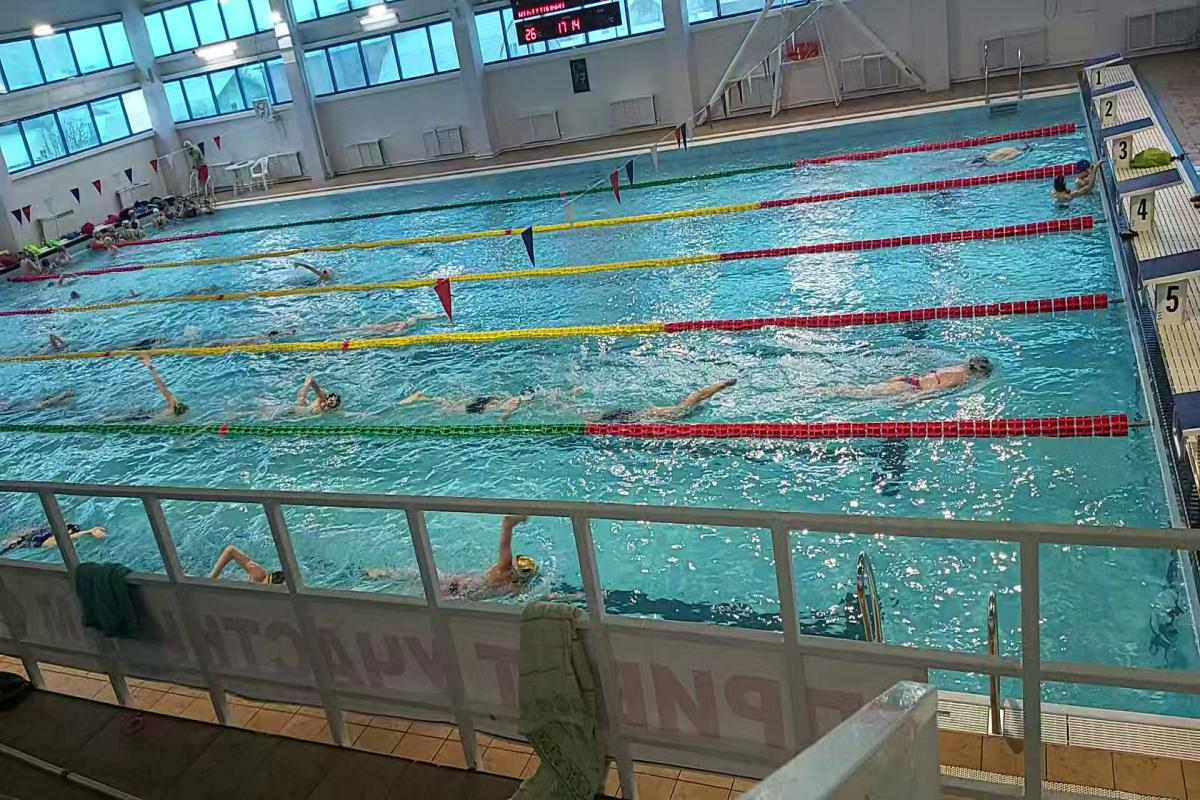swimmer: (821, 348, 1000, 402), (439, 522, 546, 600), (593, 375, 738, 422), (415, 376, 548, 422), (272, 369, 352, 422), (192, 540, 278, 584), (128, 369, 200, 419), (359, 304, 433, 339), (3, 518, 48, 556), (285, 260, 341, 281)
